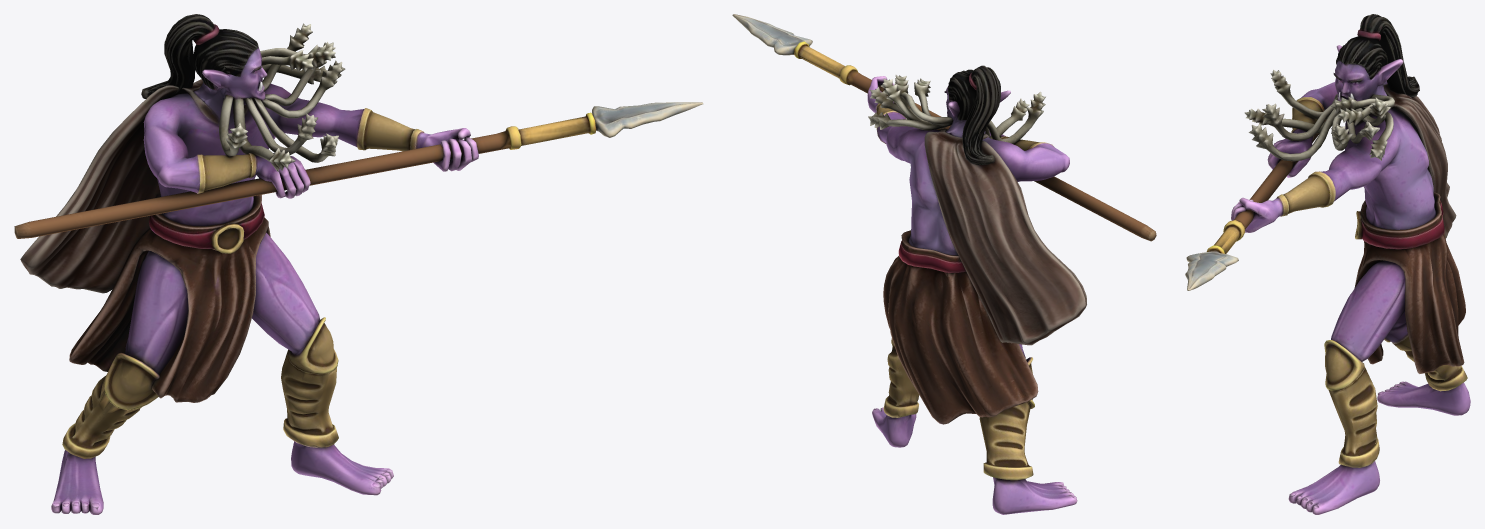
Rendered from MZ4250 - Bearded Devil 2.glb.
3 views of the same model, side by side, from view 1: azimuth 30°, elevation 25°; view 2: azimuth 150°, elevation 25°; view 3: azimuth 270°, elevation 25° (orthographic). The views are drawn at different scales.
Parts seen in each view (by area): view 1: body_low.001, spear_low.001; view 2: body_low.001, spear_low.001; view 3: body_low.001, spear_low.001.
Part boxes in pixels (box(x1,y1,x2,y2)): body_low.001: box(20, 14, 478, 514); spear_low.001: box(14, 102, 703, 238); body_low.001: box(867, 65, 1086, 514); spear_low.001: box(732, 14, 1156, 241); body_low.001: box(1231, 14, 1470, 514); spear_low.001: box(1185, 119, 1326, 290).
Size of the model in its own units: 9.17 by 7.08 by 4.25.
1 material, 1 textured.
